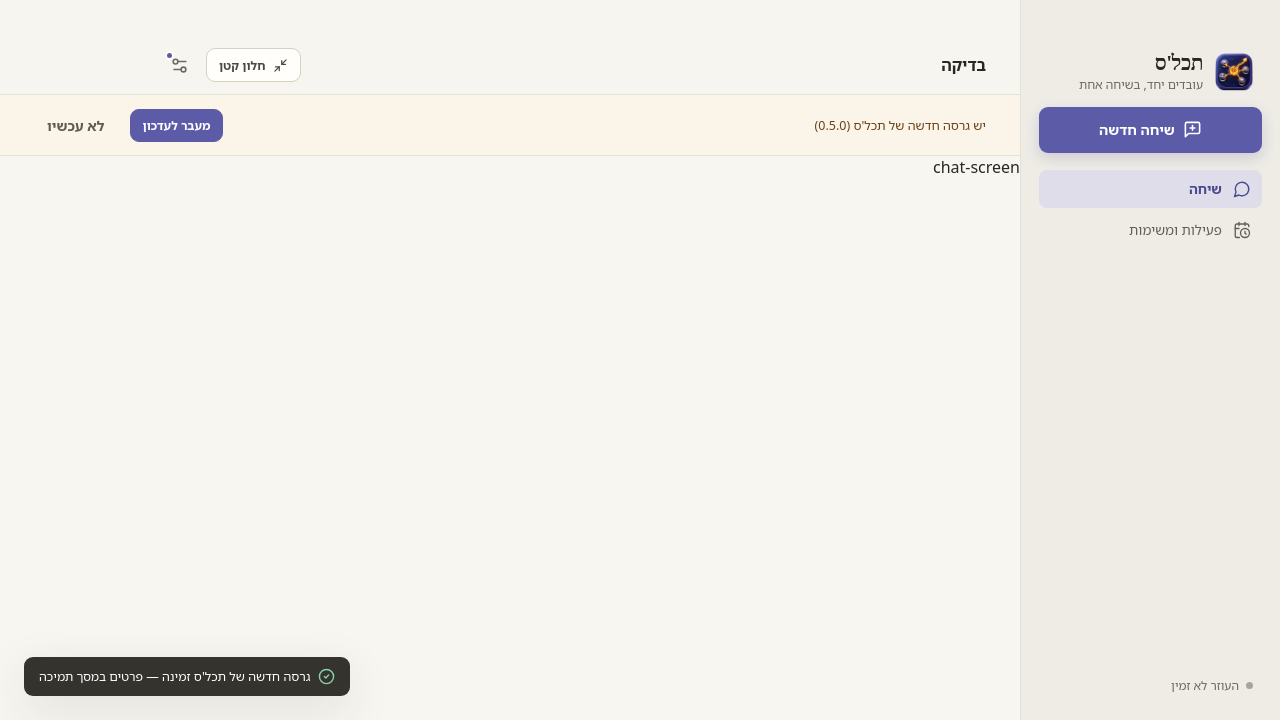
Test: FullAppShell — passive companion-update surface (B1) › "לא עכשיו" persists the same seen-marker, so nothing re-announces it later
The image size is (1280, 720).
Click the button "לא עכשיו" at (76, 125), box [30,105,122,145]
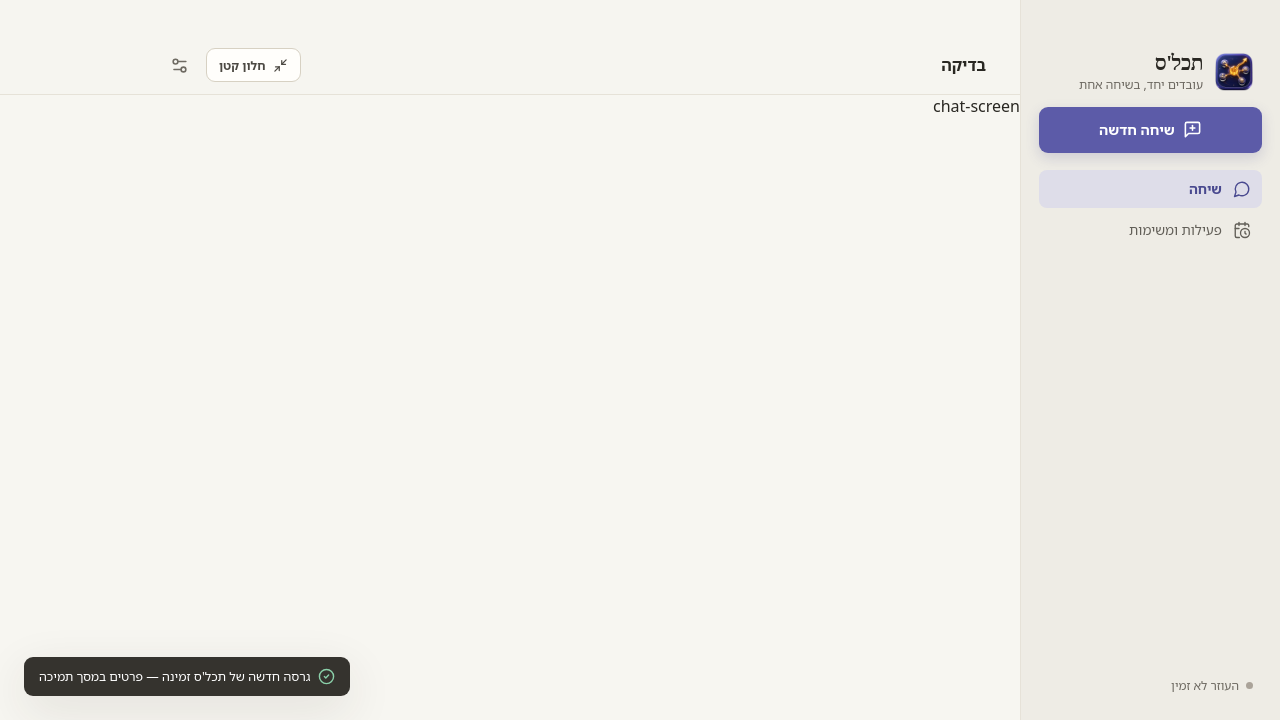
Expected: the button "מעבר לעדכון" is gone
